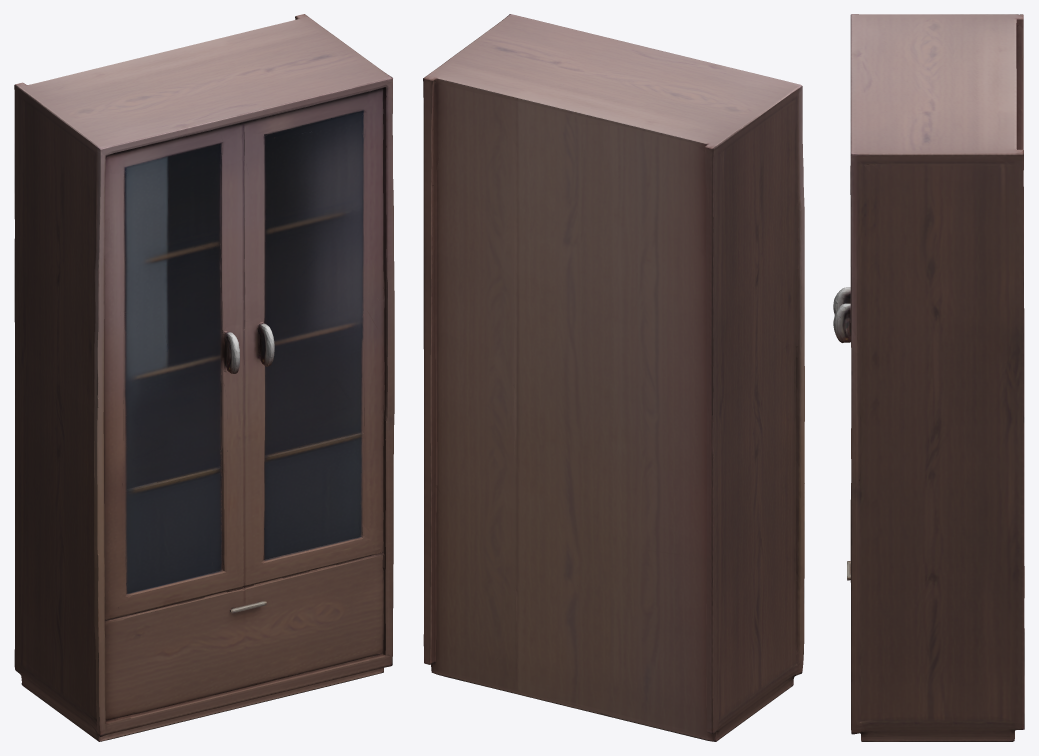
The model's file is LIBRERO MAZATI BELLOTA.glb.
3 views of the same model, side by side, from view 1: azimuth 30°, elevation 25°; view 2: azimuth 150°, elevation 25°; view 3: azimuth 270°, elevation 25° (orthographic).
Visible parts, largest first — view 1: world; view 2: world; view 3: world.
Part boxes in pixels (x1,y1,x2,y2): world: (14, 14, 394, 741); world: (423, 14, 804, 741); world: (833, 14, 1024, 741).
Bounding box in the file's own units: 0.5209 × 1 × 0.2948.
1 material, 1 textured.
